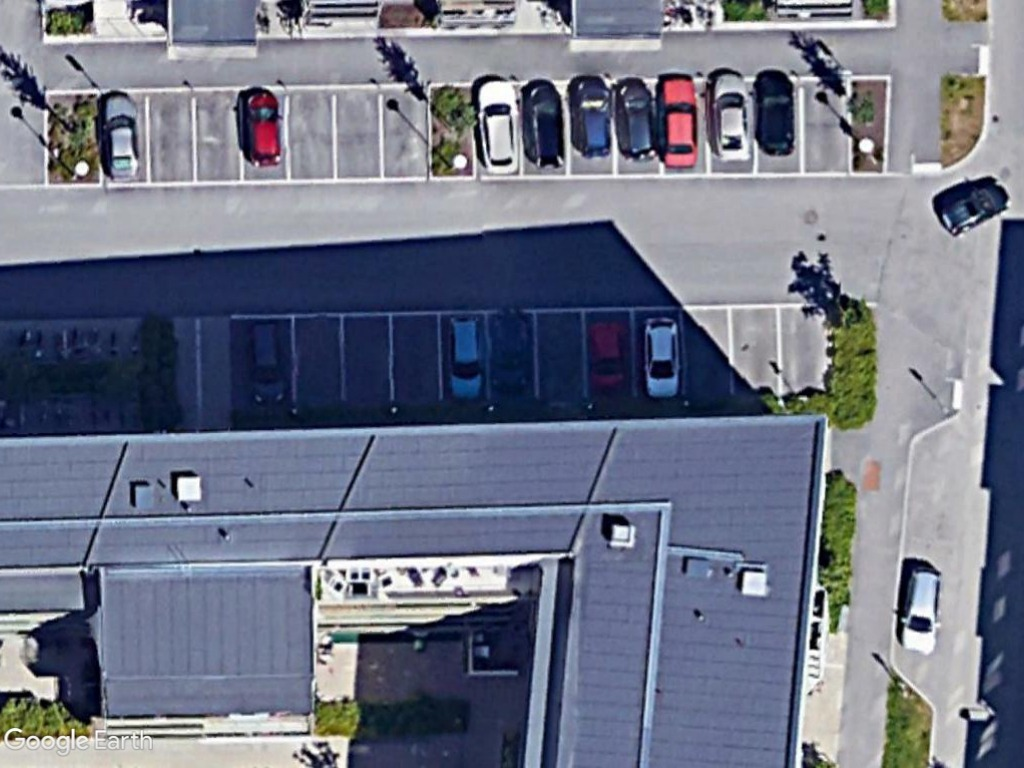car: (467, 71, 527, 177), (240, 315, 295, 414), (517, 74, 569, 177), (893, 560, 946, 660), (235, 77, 291, 171), (97, 85, 149, 184), (748, 58, 800, 156), (705, 65, 752, 169), (636, 308, 685, 405), (441, 309, 490, 405), (566, 68, 616, 161), (935, 179, 1009, 240), (610, 70, 659, 161), (655, 71, 699, 170)
